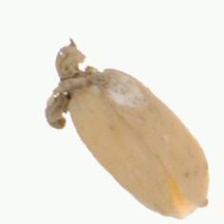L1: (43, 40, 100, 131), (165, 178, 210, 220)
L2: (45, 44, 210, 219)
